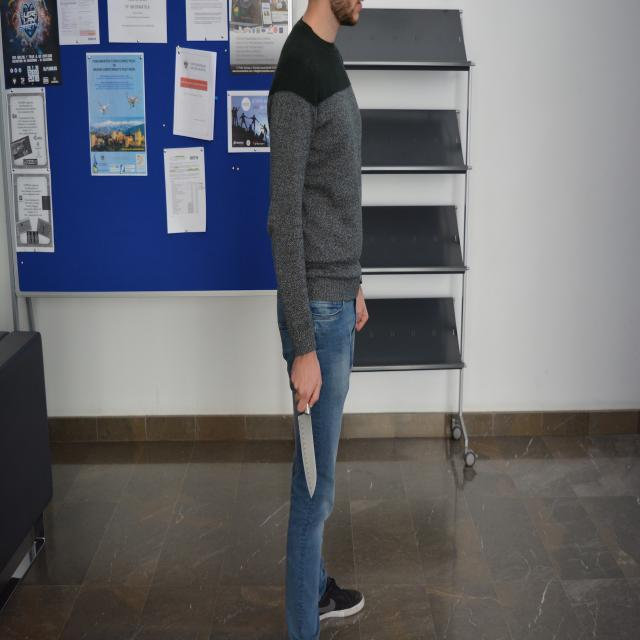knife: (295, 406, 334, 507)
